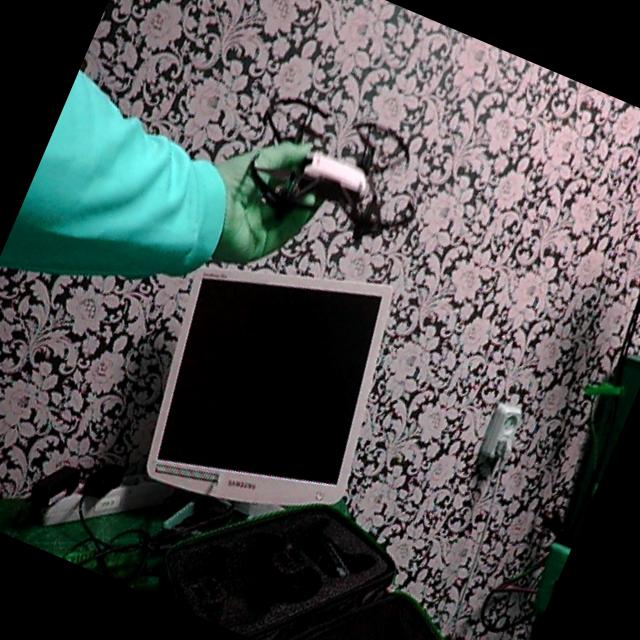drone: (212, 55, 452, 274)
